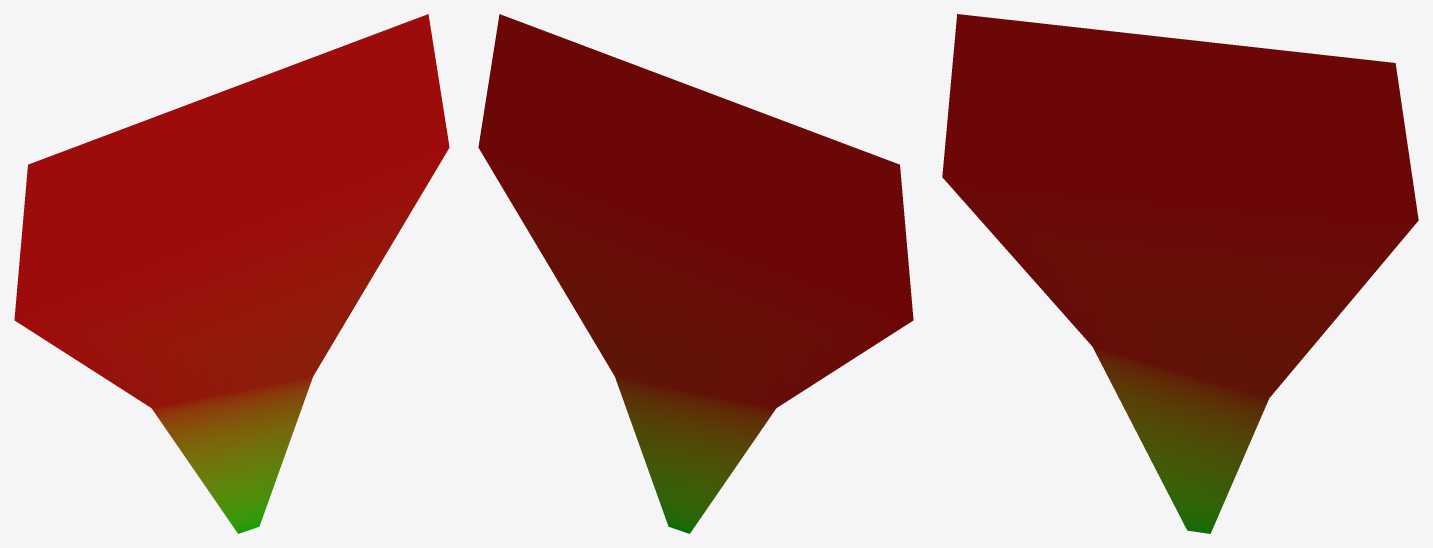
File: Chamomile_LOD4_Var2.fbx
3 views of the same model, side by side, from view 1: azimuth 30°, elevation 25°; view 2: azimuth 150°, elevation 25°; view 3: azimuth 330°, elevation 25° (orthographic). The views are drawn at different scales.
Parts seen in each view (by area): view 1: _8i1v_Var2_LOD4; view 2: _8i1v_Var2_LOD4; view 3: _8i1v_Var2_LOD4.
Part boxes in pixels (<box>): _8i1v_Var2_LOD4: <box>14,14,449,533</box>; _8i1v_Var2_LOD4: <box>478,14,913,533</box>; _8i1v_Var2_LOD4: <box>942,14,1418,533</box>.
Size of the model in its own units: 59.7 by 62.08 by 7.4e-06.
